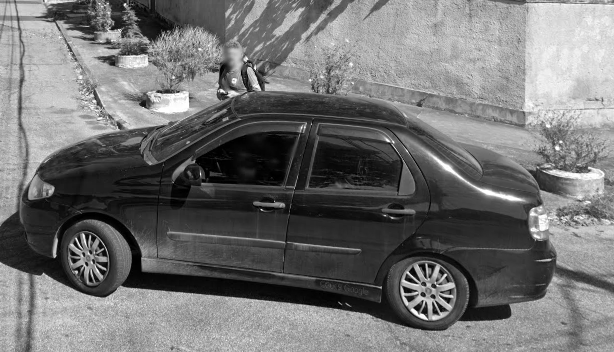car: (20, 88, 556, 331)
